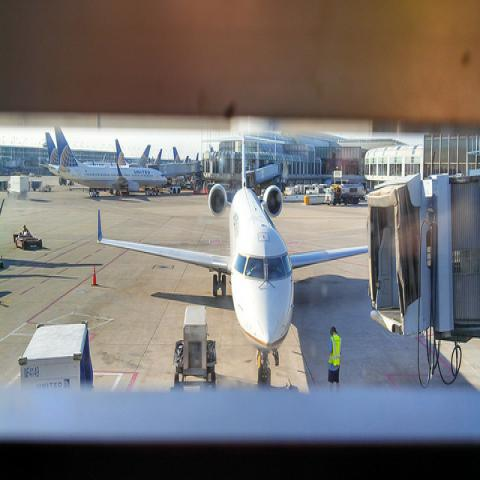truck: (15, 322, 94, 388), (172, 306, 216, 392), (325, 184, 365, 206), (284, 186, 295, 195)
